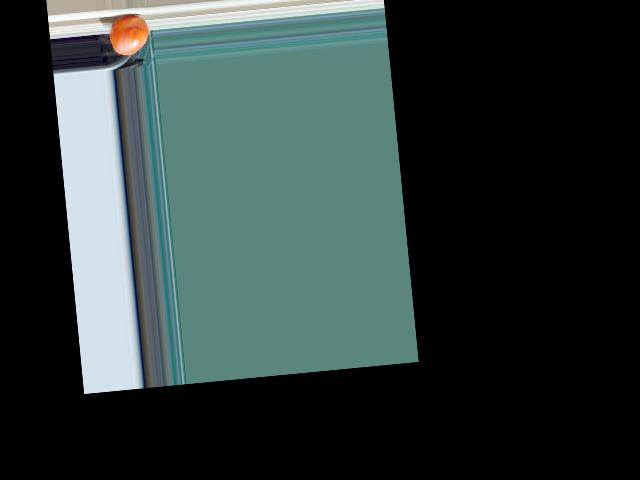tomato: (107, 14, 150, 57)
